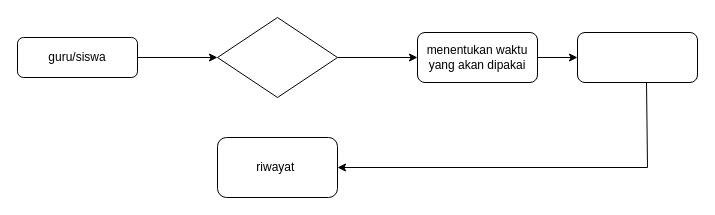
The diagram is 715 pixels wide and 215 high, and some of its shapes have lost their labels. Here are the shapes that lost their labels. From the top down, the centre of each, then its label:
At point (277, 57): "mengisi form untuk booking".
At point (637, 57): "kirim".
